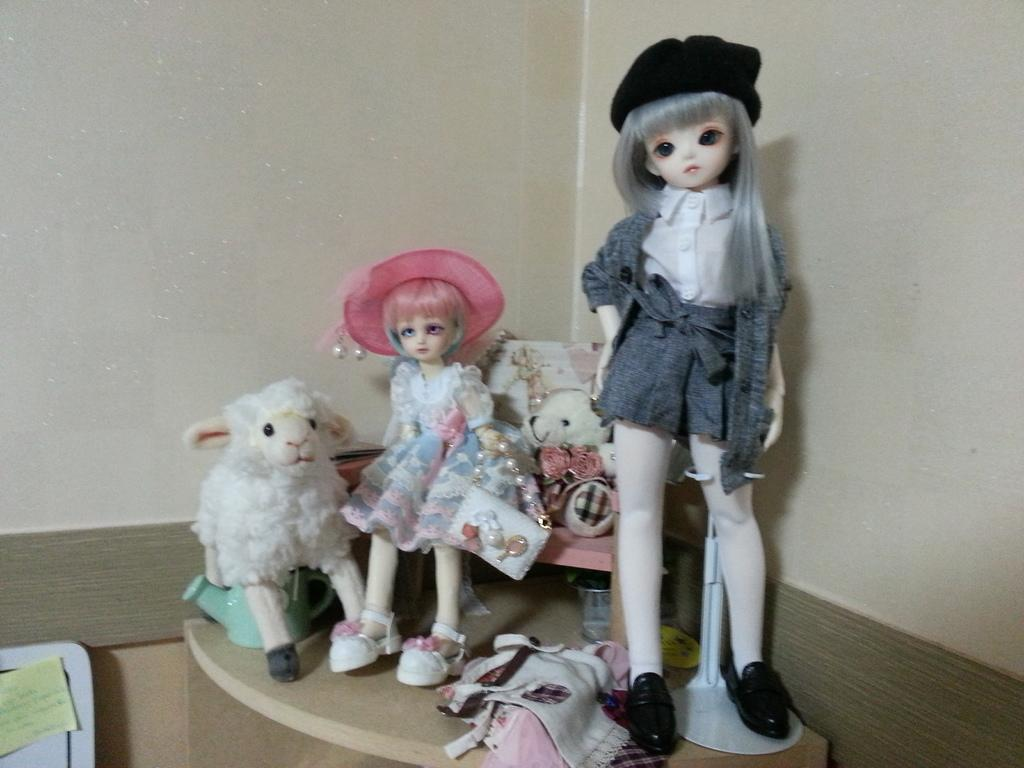Hat: (335, 247, 508, 357)
